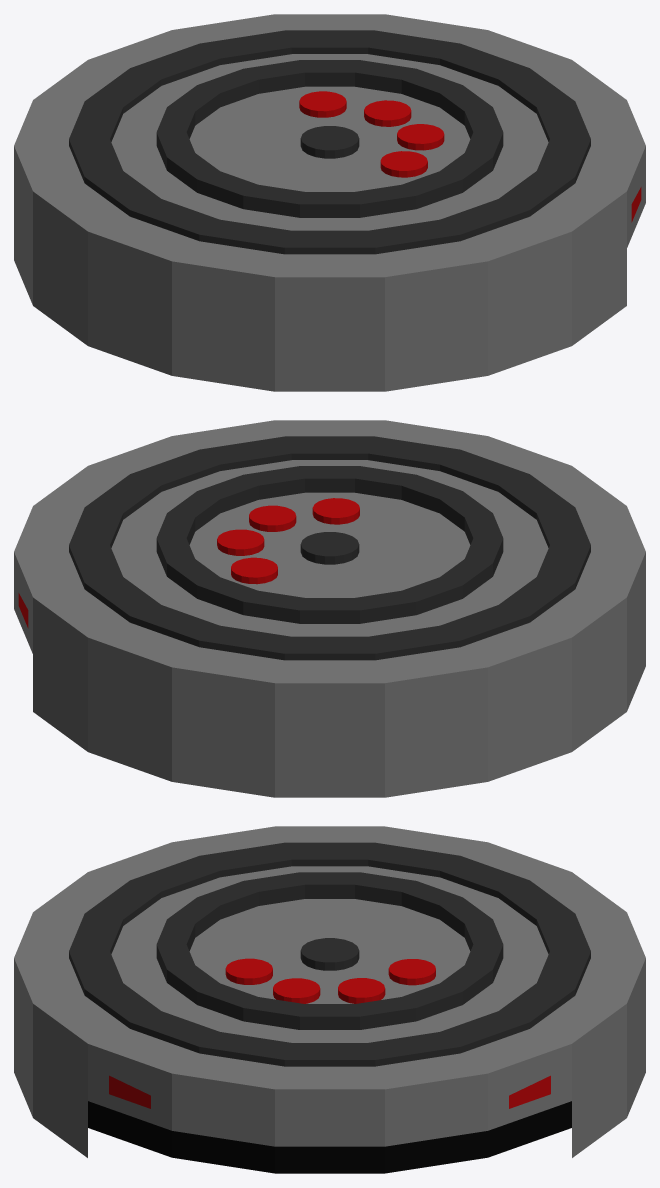
Rendered from Cleaner.fbx.
The picture shows the model from 3 angles, top to bottom: view 1: azimuth 30°, elevation 25°; view 2: azimuth 150°, elevation 25°; view 3: azimuth 270°, elevation 25°; orthographic projection.
Parts seen in each view (by area): view 1: Cylinder; view 2: Cylinder; view 3: Cylinder.
Boxes of the visible parts, left/top/right/bottom form: Cylinder: left=14, top=14, right=645, bottom=391; Cylinder: left=14, top=420, right=645, bottom=797; Cylinder: left=14, top=826, right=645, bottom=1173.
Size of the model in its own units: 197 by 44.71 by 200.
